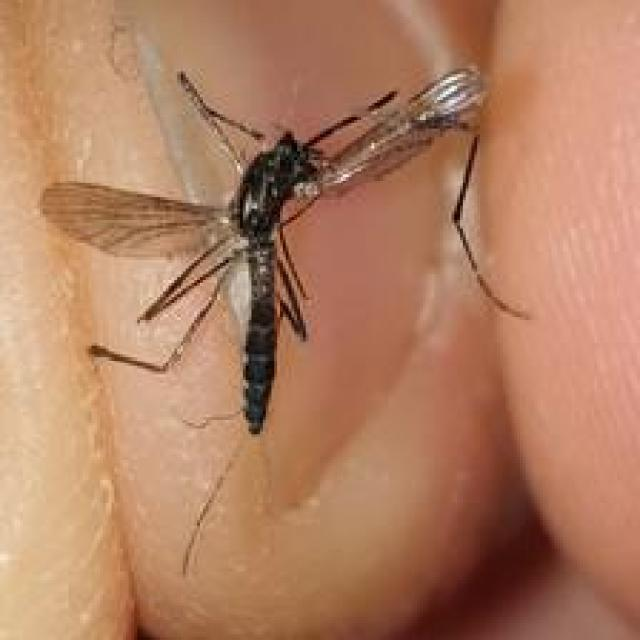Aedes albopictus: (37, 61, 532, 438)
